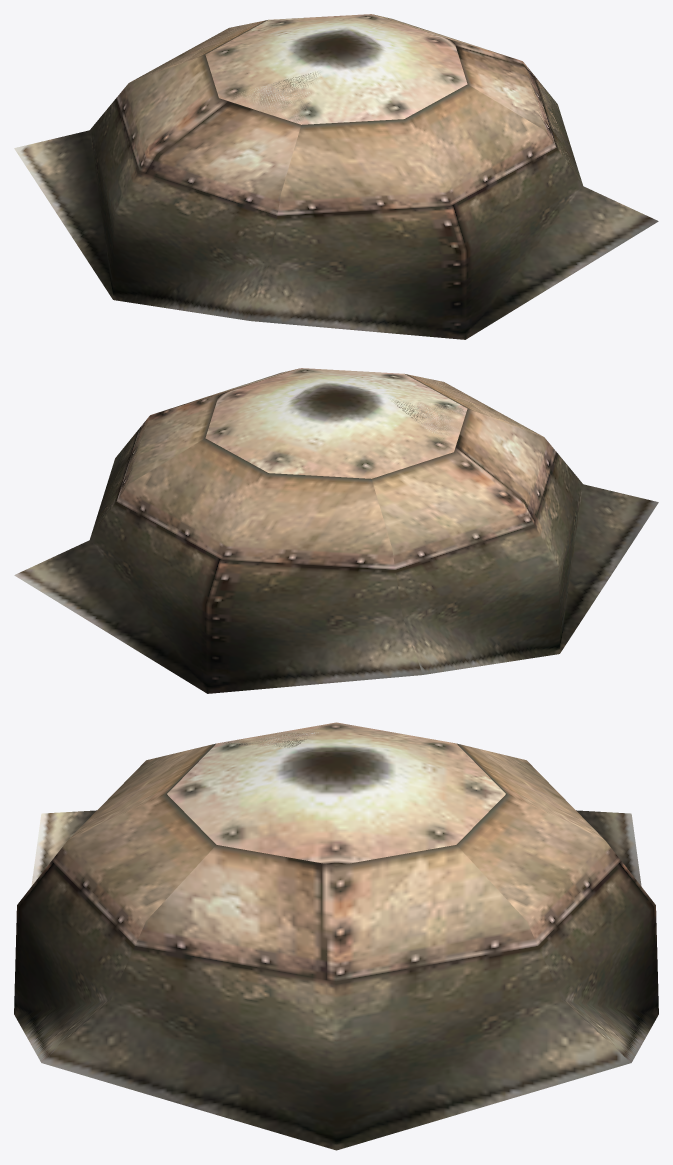
File: stbuho39.dae
3 renders of one model, top to bottom at view 1: azimuth 30°, elevation 25°; view 2: azimuth 150°, elevation 25°; view 3: azimuth 270°, elevation 25°, orthographic. The views are drawn at different scales.
Parts seen in each view (by area): view 1: dome, pike; view 2: dome; view 3: dome.
Boxes of the visible parts, bbox=[...] form: dome: bbox=[14, 14, 658, 339]; pike: bbox=[230, 70, 320, 124]; dome: bbox=[14, 368, 658, 693]; dome: bbox=[14, 722, 658, 1150].
Size of the model in its own units: 3.07 by 3.07 by 1.33.
Materials: 1 (1 with a texture image).
